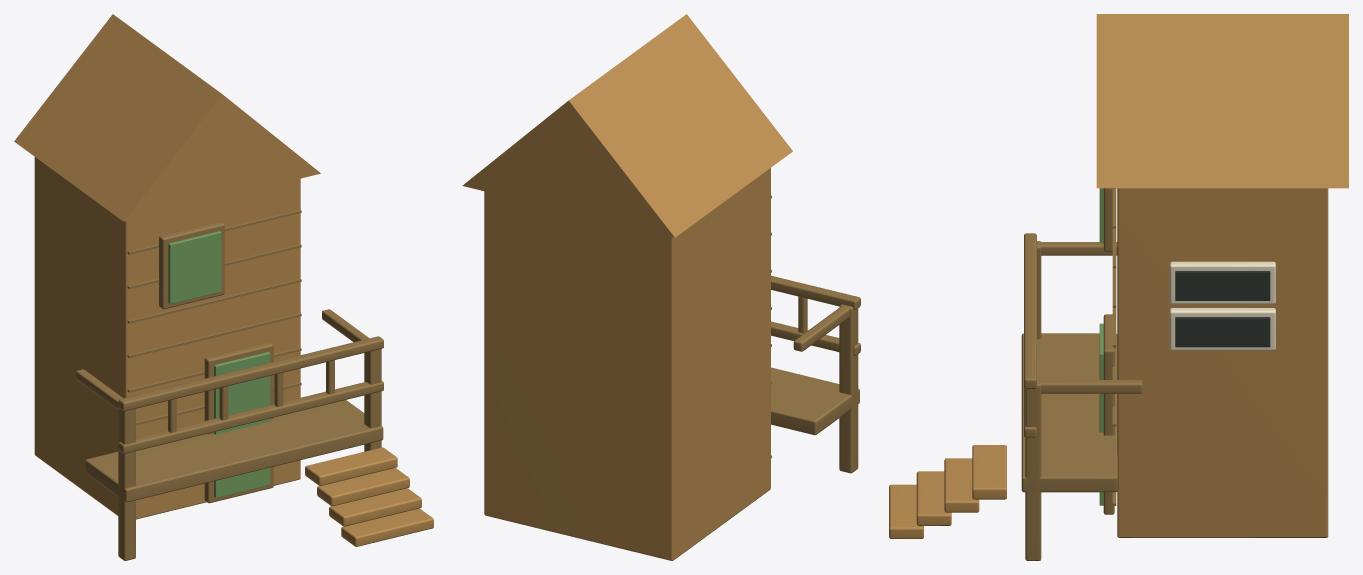
The model's file is asset06.glb.
3 renders of one model, left to right at view 1: azimuth 30°, elevation 25°; view 2: azimuth 150°, elevation 25°; view 3: azimuth 270°, elevation 25°, orthographic. The views are drawn at different scales.
Parts seen in each view (by area): view 1: 06_wooden_hut; view 2: 06_wooden_hut; view 3: 06_wooden_hut.
Boxes of the visible parts, x1,y1,x2,y2 form: 06_wooden_hut: (14,14,433,560); 06_wooden_hut: (462,14,860,560); 06_wooden_hut: (889,14,1348,560).
Bounding box in the file's own units: 0.6611 × 1 × 0.8764.
